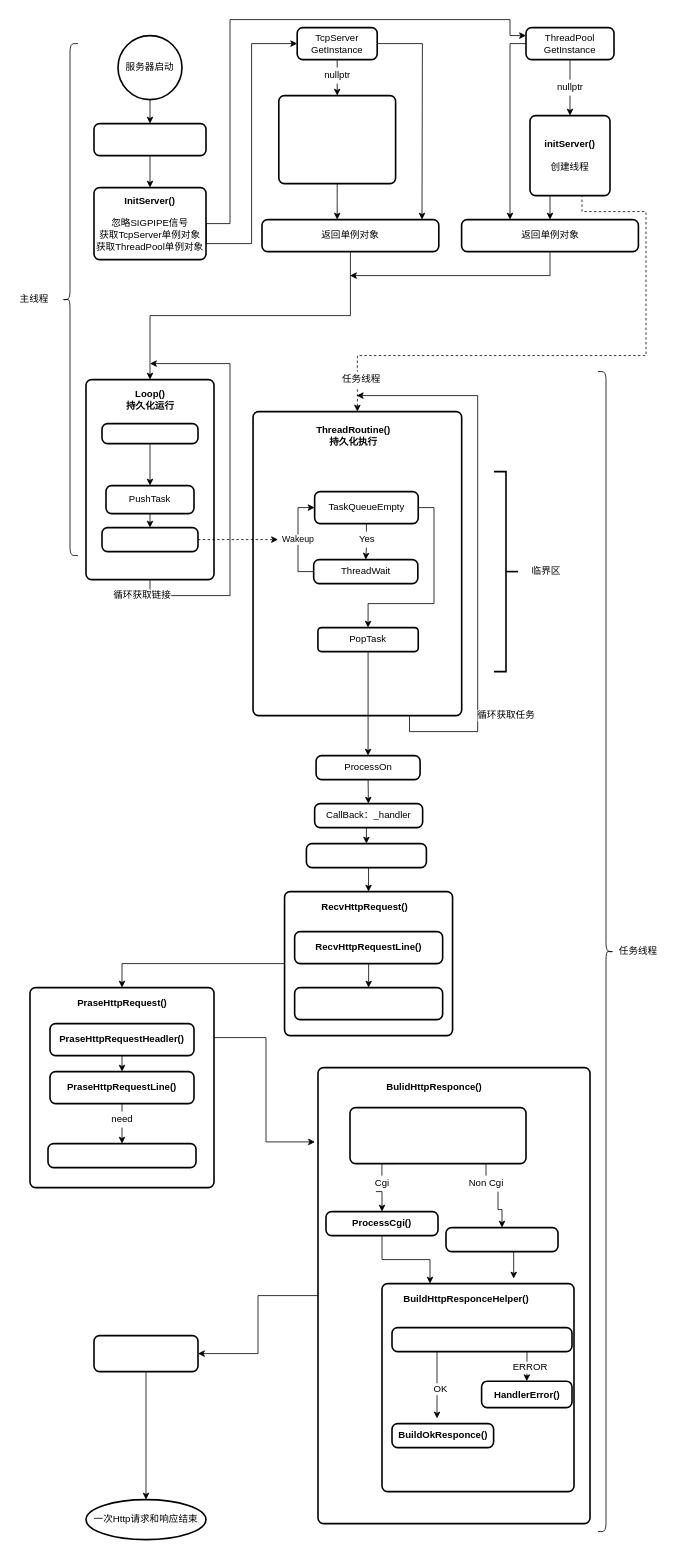
Some shapes in this 675 by 1554 pixel diagram are drawn without their labels. The centre of each missing label's shape, as x and y in pixels:
"1. 判断请求方式 2. 处理资源路径 3. 处理请求 -- cgi/no cgi" belongs at point (437, 1135).
"accept" belongs at point (149, 433).
"EndPoint类" belongs at point (366, 855).
"InitServer() Socket()：创建监听套接字 Bind()：绑定套接字 Listen()：监听套接字" belongs at point (337, 139).
"ProcessNonCgi()" belongs at point (501, 1239).
"RecvHttpRequestBody()" belongs at point (121, 1155).
"RecvHttpRequestHeader()" belongs at point (368, 1003).
"SendHttpResponse()" belongs at point (145, 1353).
"ThreadWakeup" belongs at point (149, 539).
"构建状态行" belongs at point (481, 1339).
"生成HttpServer对象" belongs at point (149, 139).
